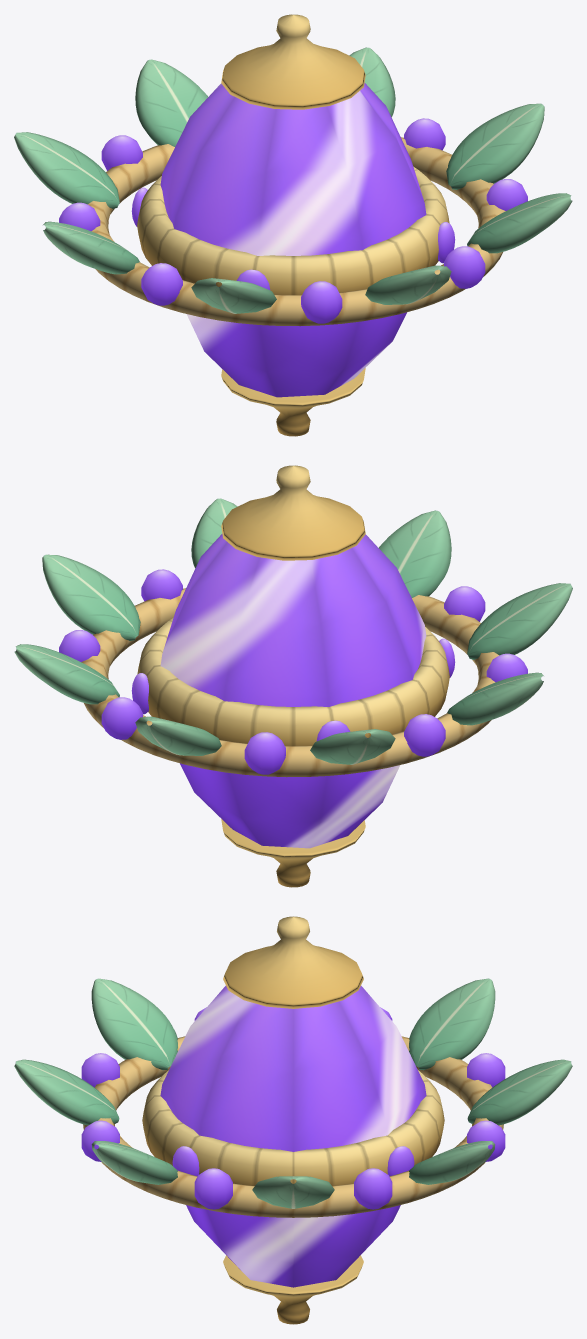
Rendered from pickup_orb.glb.
The picture shows the model from 3 angles, top to bottom: view 1: azimuth 30°, elevation 25°; view 2: azimuth 150°, elevation 25°; view 3: azimuth 270°, elevation 25°; orthographic projection. The views are drawn at different scales.
Parts seen in each view (by area): view 1: pickup_cell, pickup_halo; view 2: pickup_cell, pickup_halo; view 3: pickup_cell, pickup_halo.
Boxes of the visible parts, <box> form: pickup_cell: <box>131,14,455,436</box>; pickup_halo: <box>14,47,572,326</box>; pickup_cell: <box>131,465,455,887</box>; pickup_halo: <box>14,498,572,777</box>; pickup_cell: <box>142,916,444,1324</box>; pickup_halo: <box>14,978,572,1217</box>.
Bounding box in the file's own units: 0.7024 × 0.564 × 0.7024.
Materials: 2 (2 with a texture image).
